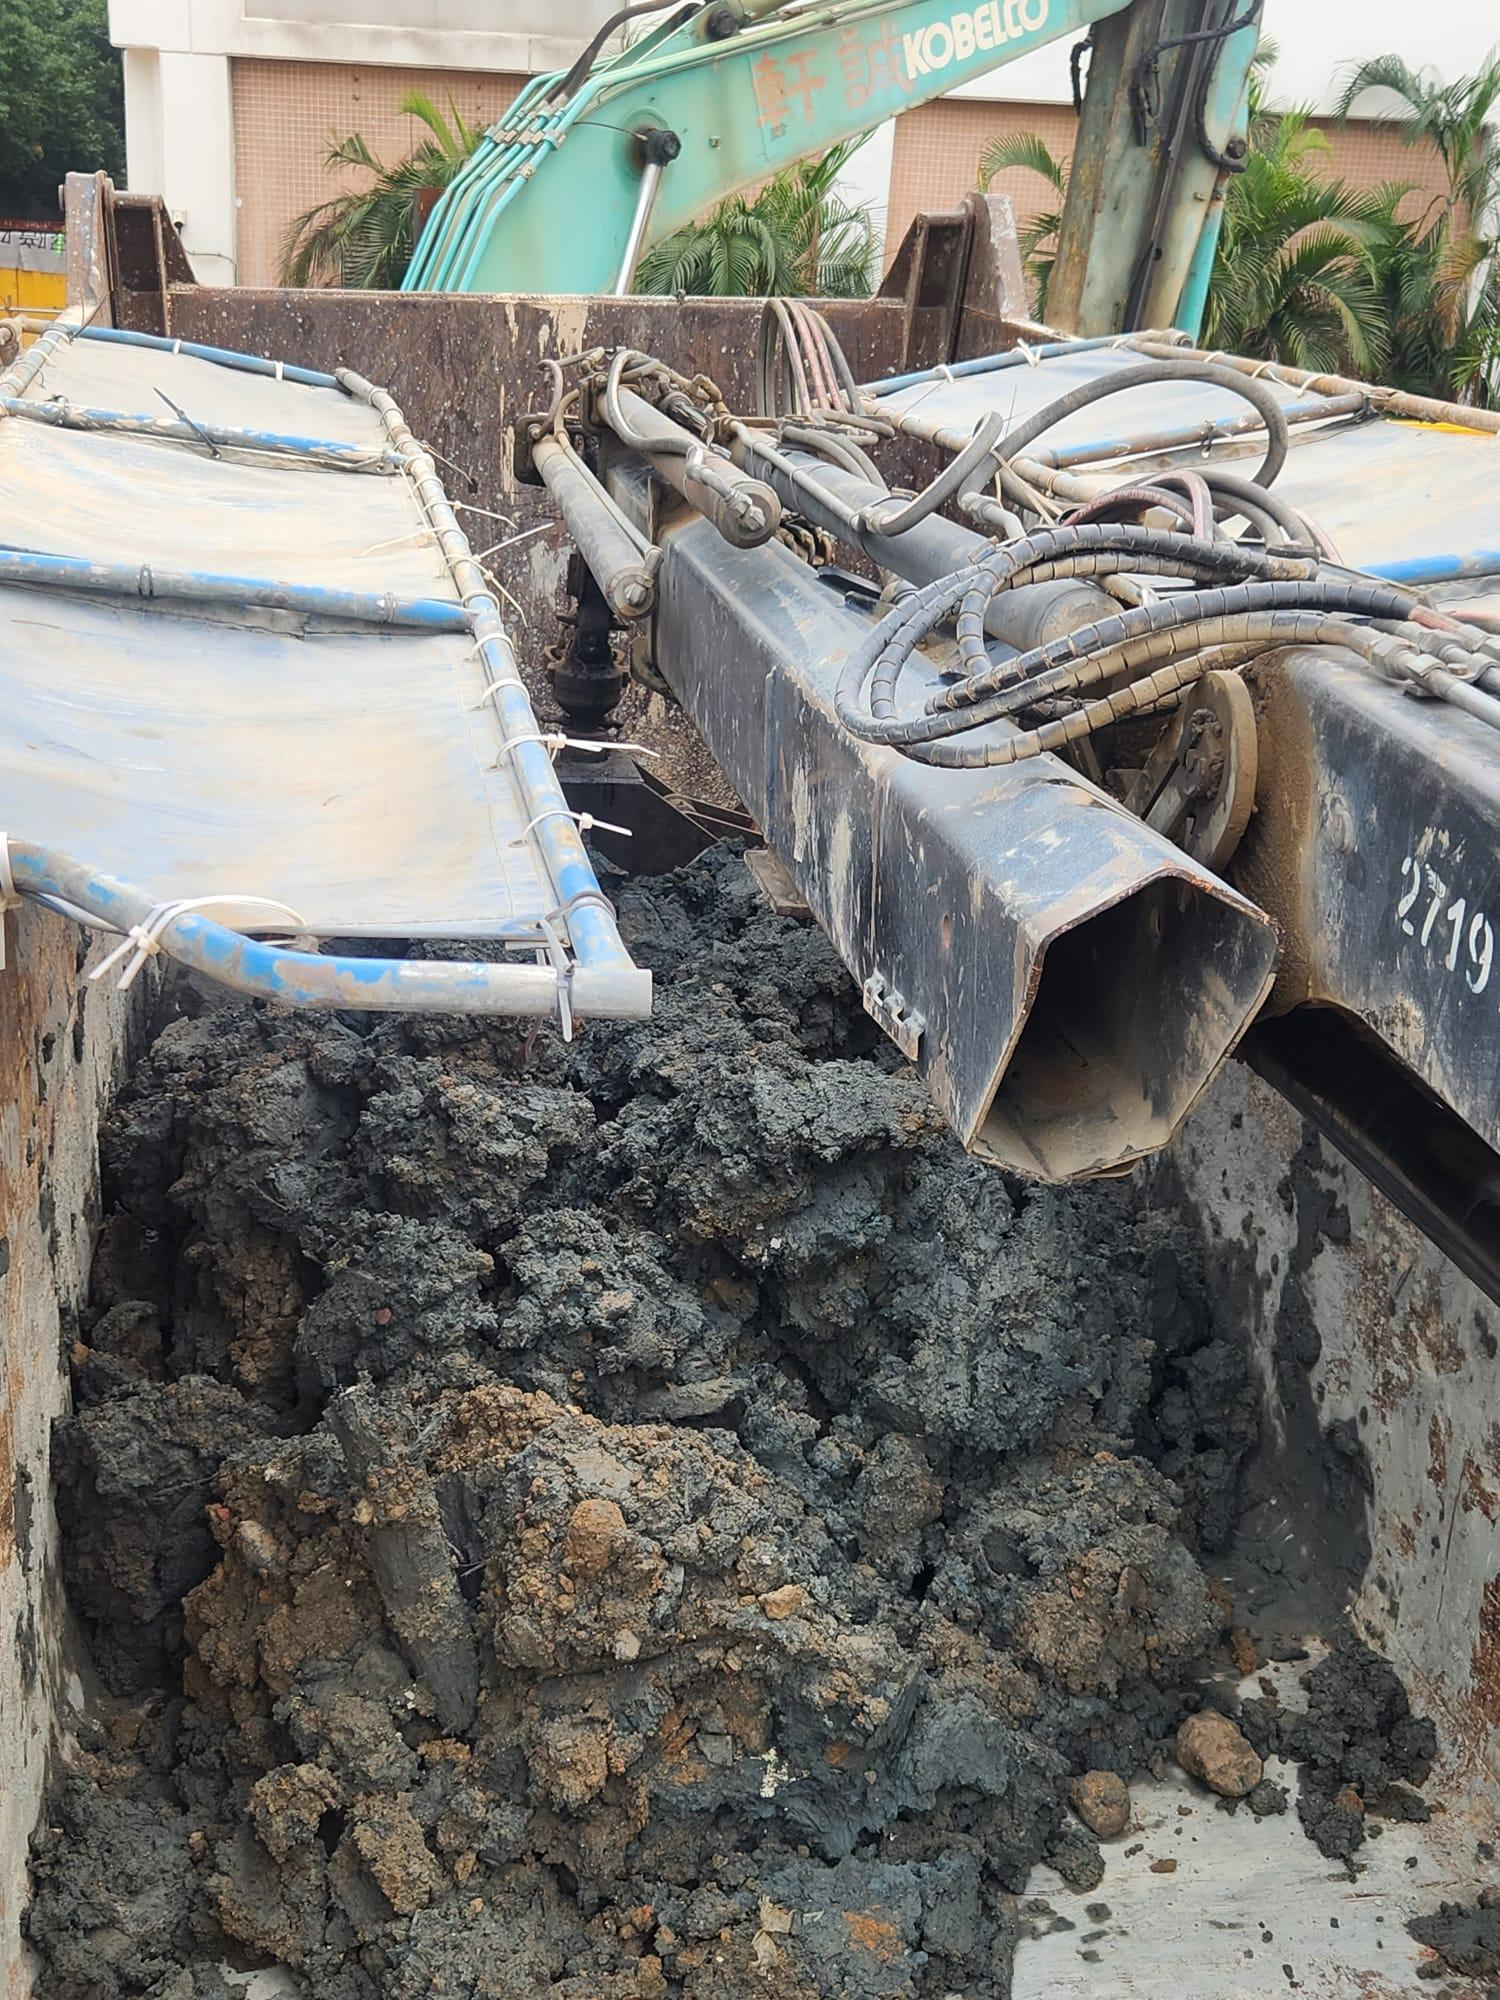wet: (96, 813, 1303, 2000)
